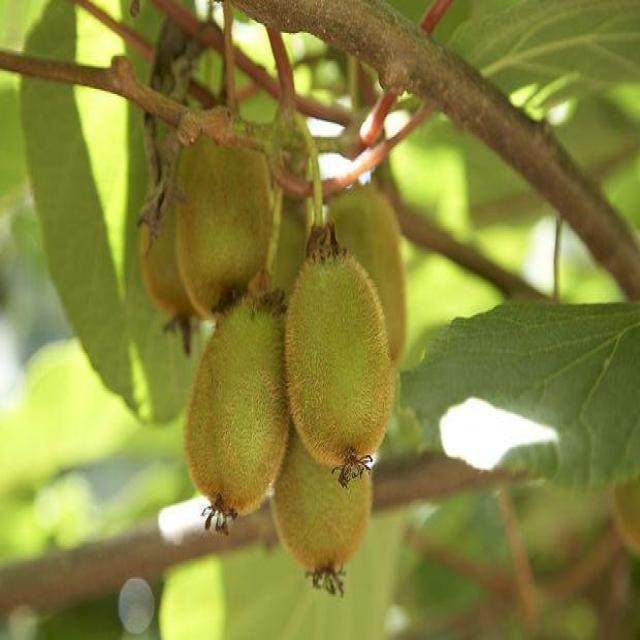kiwi: (185, 267, 301, 542), (279, 248, 397, 478), (164, 109, 278, 320), (269, 429, 376, 602), (325, 174, 412, 372), (130, 159, 210, 356)
